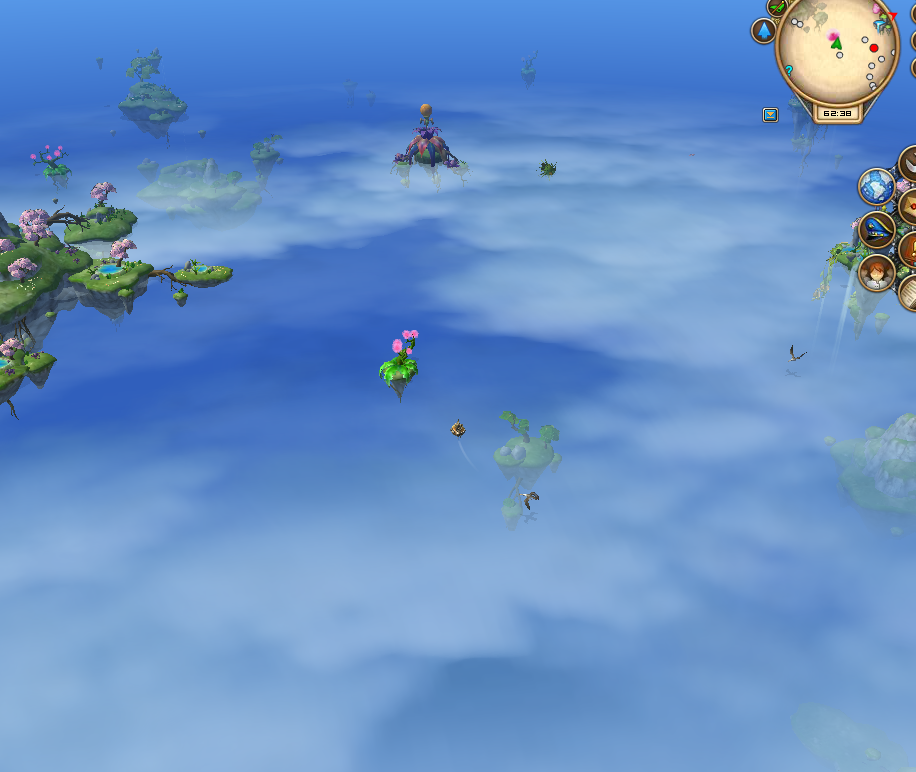dandelion-full: (370, 324, 428, 405), (26, 140, 75, 191), (515, 44, 544, 89)
